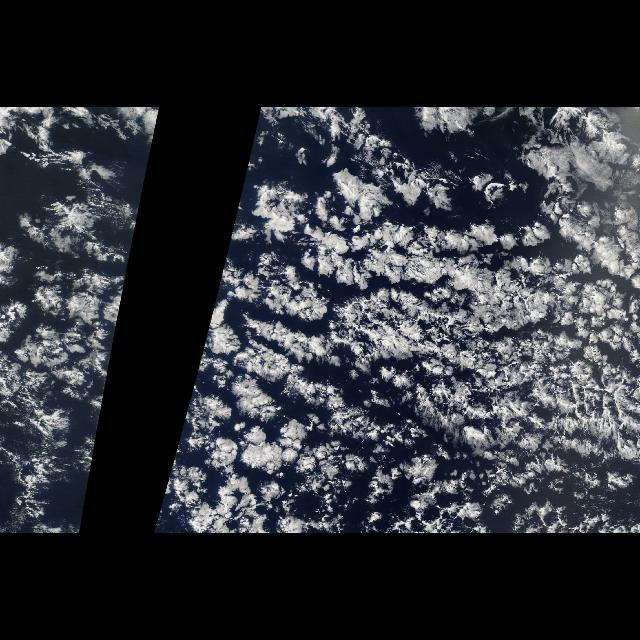Flower: (152, 206, 640, 534), (2, 207, 140, 533)
